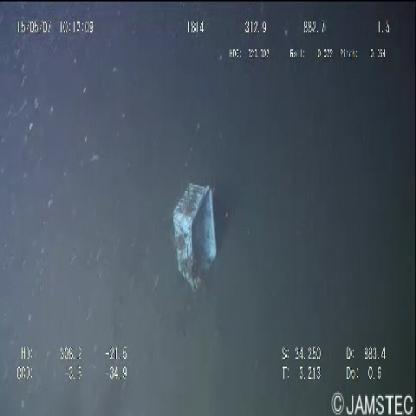Rác: (166, 169, 223, 298)
